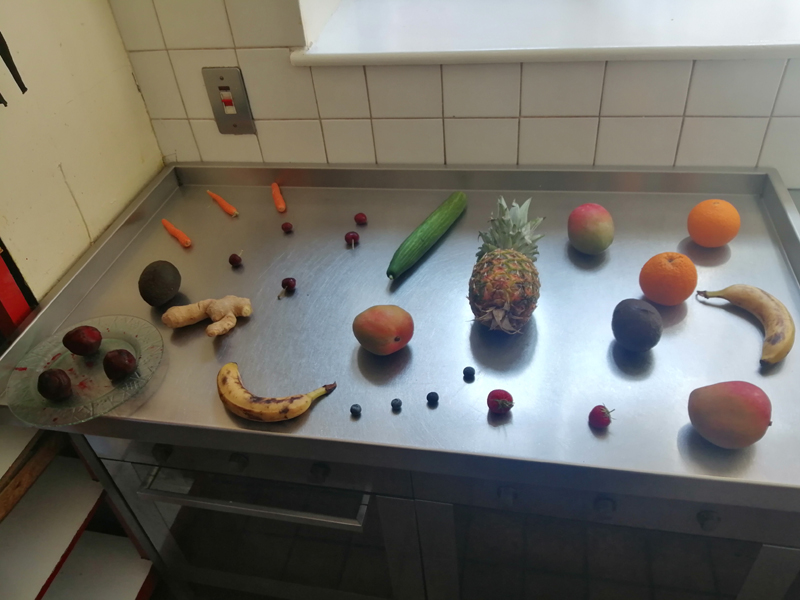avocado: (606, 293, 667, 356), (132, 254, 183, 305)
banana: (699, 277, 796, 370), (206, 359, 340, 425)
beet: (25, 364, 73, 402), (55, 324, 103, 353), (101, 349, 141, 381)
bliueberry: (457, 365, 479, 384), (421, 392, 444, 410), (386, 397, 403, 420)
blueberry: (349, 402, 363, 421)
carrot: (188, 179, 244, 221), (152, 214, 201, 254), (267, 181, 296, 214)
cherry: (332, 224, 372, 263), (219, 235, 252, 273), (270, 274, 299, 306), (346, 205, 377, 229), (274, 214, 297, 241)
cucumber: (382, 188, 467, 281)
ginger: (160, 290, 266, 339)
mango: (681, 379, 777, 451), (561, 196, 619, 263), (348, 304, 415, 356)
orange: (680, 197, 747, 254), (635, 248, 703, 300)
pineapple: (467, 196, 549, 342)
strawberry: (485, 386, 520, 417), (582, 401, 618, 428)
